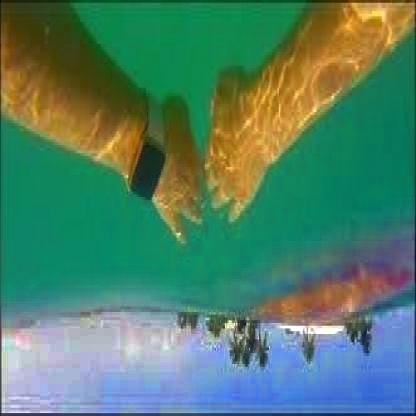electronics: (131, 84, 166, 214)
